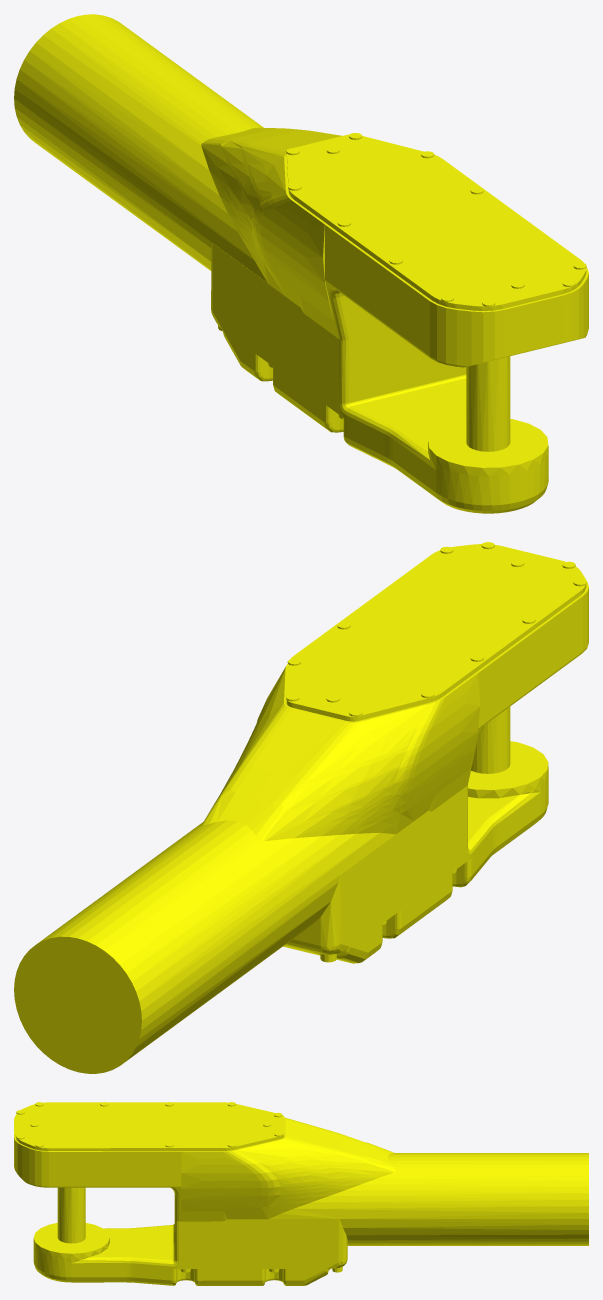
3 views of the same model, one above another, from view 1: azimuth 30°, elevation 25°; view 2: azimuth 150°, elevation 25°; view 3: azimuth 270°, elevation 25° (orthographic). The views are drawn at different scales.
Visible parts, largest first — view 1: node; view 2: node; view 3: node.
Part boxes in pixels (x1,y1,x2,y2): node: [14, 14, 588, 513]; node: [14, 542, 588, 1073]; node: [14, 1102, 588, 1285].
Size of the model in its own units: 123 by 172 by 618.
